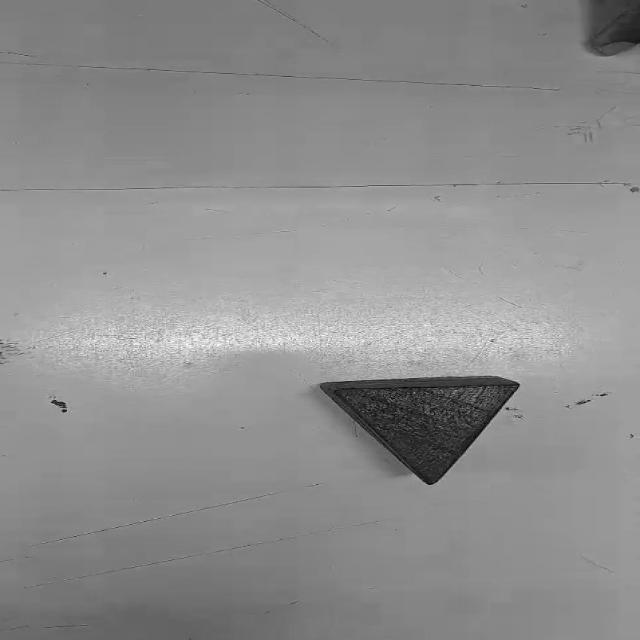btriangle: (314, 374, 525, 485)
